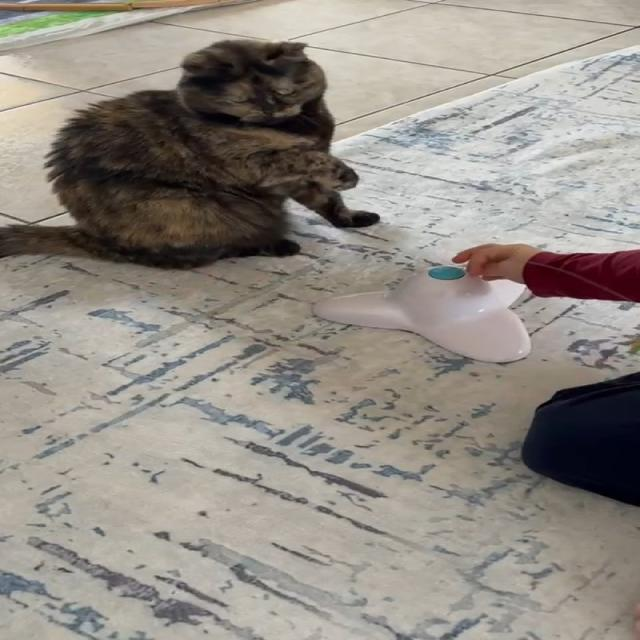authorized: (0, 38, 380, 270)
